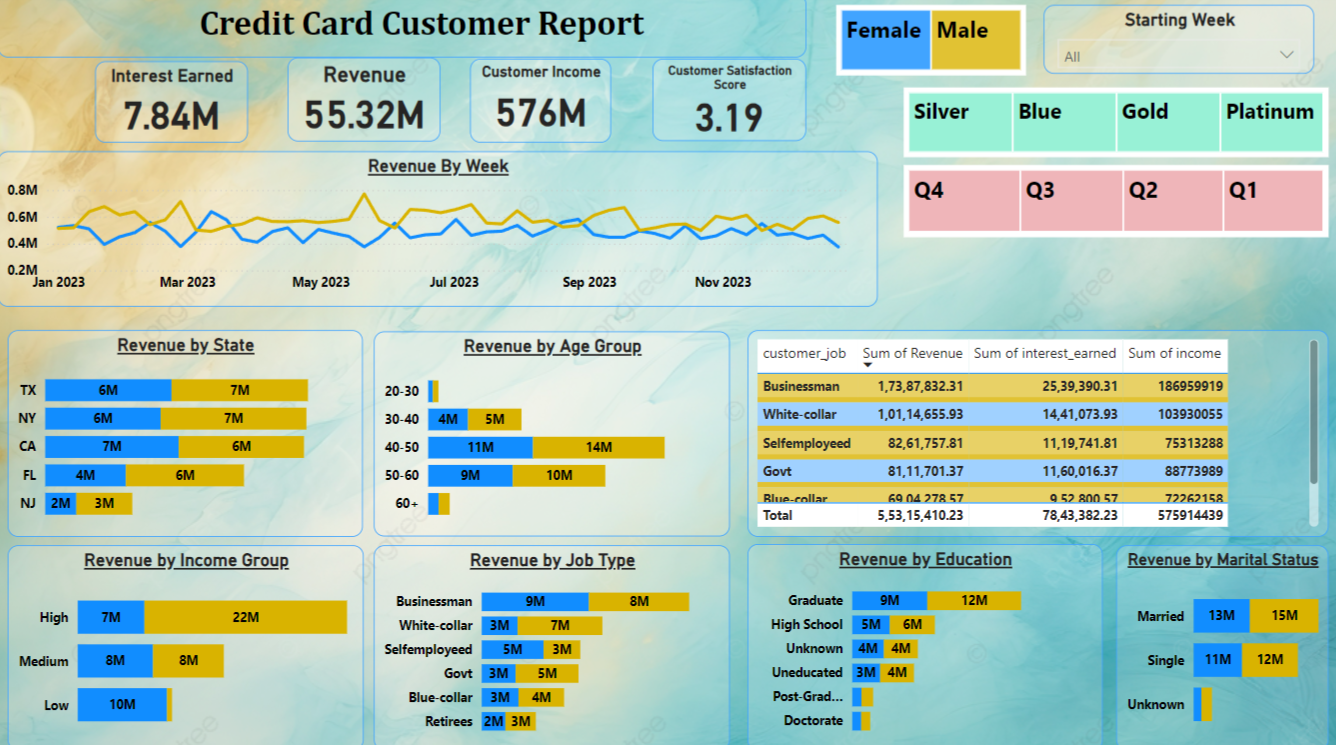

The dashboard page shown, as its layout file describes it:
{"tool":"powerbi","page":{"name":"Credit Card Customer","canvas":[1280,720],"ordinal":1},"visuals":[{"type":"textbox","box":[21.4,0,677.4,60.7],"z":0},{"type":"barChart","title":"Revenue by Income Group","fields":{"Y":["Sum(public cc_detail.Revenue)"],"Category":["public cust_detail.IncomeGroup"],"Series":["public cust_detail.gender"]},"box":[9.5,525,339.3,195.2],"z":1000},{"type":"tableEx","fields":{"Values":["public cust_detail.customer_job","Sum(public cc_detail.Revenue)","Sum(public cc_detail.interest_earned)","Sum(public cust_detail.income)"]},"box":[714.3,320.2,553.6,196.4],"z":2000},{"type":"card","title":"Revenue","fields":{"Values":["Sum(public cc_detail.Revenue)"]},"box":[202.4,60.7,145.2,76.2],"z":3000},{"type":"card","title":"Customer Income","fields":{"Values":["Sum(public cust_detail.income)"]},"box":[381,60.7,138.1,76.2],"z":4000},{"type":"card","title":"Customer Satisfaction Score","fields":{"Values":["Avg(public cust_detail.cust_satisfaction_score)"]},"box":[552.4,59.5,146.4,77.4],"z":5000},{"type":"card","title":"Interest Earned","fields":{"Values":["Sum(public cc_detail.interest_earned)"]},"box":[21.4,59.5,145.2,77.4],"z":6000},{"type":"slicer","title":"Starting Week","fields":{"Values":["public cc_detail.week_start_date"]},"box":[996.2,11,258,65.9],"z":7000},{"type":"treemap","fields":{"Group":["public cc_detail.qtr"],"Values":["Avg(public cust_detail.client_num)"]},"box":[863.1,163.3,404.8,68.6],"z":8000},{"type":"treemap","fields":{"Values":["Avg(public cust_detail.client_num)"],"Group":["public cust_detail.gender"]},"box":[798.6,11,181.1,67.2],"z":9000},{"type":"treemap","fields":{"Values":["Avg(public cust_detail.client_num)"],"Group":["public cc_detail.card_category"]},"box":[863.1,89.3,404.8,66.7],"z":10000},{"type":"lineChart","title":"Revenue By Week","fields":{"Series":["public cust_detail.gender"],"Y":["Sum(public cc_detail.Revenue)"],"Category":["public cc_detail.week_start_date.Variation.Date Hierarchy.Year","public cc_detail.week_start_date.Variation.Date Hierarchy.Month","public cc_detail.week_start_date.Variation.Date Hierarchy.Day"]},"box":[0,150,838.1,147.6],"z":11000},{"type":"barChart","title":"Revenue by Age Group","fields":{"Y":["Sum(public cc_detail.Revenue)"],"Category":["public cust_detail.AgeGroup"],"Series":["public cust_detail.gender"]},"box":[358.3,321.4,339.3,195.2],"z":12000},{"type":"barChart","title":"Revenue by  Job Type","fields":{"Y":["Sum(public cc_detail.Revenue)"],"Category":["public cust_detail.customer_job"],"Series":["public cust_detail.gender"]},"box":[358.3,525,339.3,195.2],"z":13000},{"type":"barChart","title":"Revenue by  State","fields":{"Y":["Sum(public cc_detail.Revenue)"],"Category":["public cust_detail.state_cd"],"Series":["public cust_detail.gender"]},"box":[9.5,320.2,338.1,196.4],"z":14000},{"type":"barChart","title":"Revenue by Education","fields":{"Y":["Sum(public cc_detail.Revenue)"],"Category":["public cust_detail.education_level"],"Series":["public cust_detail.gender"]},"box":[714.3,523.8,338.1,196.4],"z":15000},{"type":"barChart","title":"Revenue by  Marital Status","fields":{"Y":["Sum(public cc_detail.Revenue)"],"Category":["public cust_detail.marital_status"],"Series":["public cust_detail.gender"]},"box":[1065.5,525,202.4,195.2],"z":16000}]}

Visuals, with their boxes in screenshot pixels (x1, y1, x2, y2), scaled from the page's 1280x720 canvas onto the 1336x745 screenshot:
textbox: (x1=22, y1=0, x2=729, y2=63)
"Revenue by Income Group" barChart: (x1=10, y1=543, x2=364, y2=744)
tableEx - public cust_detail.customer_job x Sum(public cc_detail.Revenue): (x1=746, y1=331, x2=1323, y2=535)
"Revenue" card: (x1=211, y1=63, x2=363, y2=142)
"Customer Income" card: (x1=398, y1=63, x2=542, y2=142)
"Customer Satisfaction Score" card: (x1=577, y1=62, x2=729, y2=142)
"Interest Earned" card: (x1=22, y1=62, x2=174, y2=142)
"Starting Week" slicer: (x1=1040, y1=11, x2=1309, y2=80)
treemap - public cc_detail.qtr x Avg(public cust_detail.client_num): (x1=901, y1=169, x2=1323, y2=240)
treemap - Avg(public cust_detail.client_num) x public cust_detail.gender: (x1=834, y1=11, x2=1023, y2=81)
treemap - Avg(public cust_detail.client_num) x public cc_detail.card_category: (x1=901, y1=92, x2=1323, y2=161)
"Revenue By Week" lineChart: (x1=0, y1=155, x2=875, y2=308)
"Revenue by Age Group" barChart: (x1=374, y1=333, x2=728, y2=535)
"Revenue by  Job Type" barChart: (x1=374, y1=543, x2=728, y2=744)
"Revenue by  State" barChart: (x1=10, y1=331, x2=363, y2=535)
"Revenue by Education" barChart: (x1=746, y1=542, x2=1098, y2=744)
"Revenue by  Marital Status" barChart: (x1=1112, y1=543, x2=1323, y2=744)
